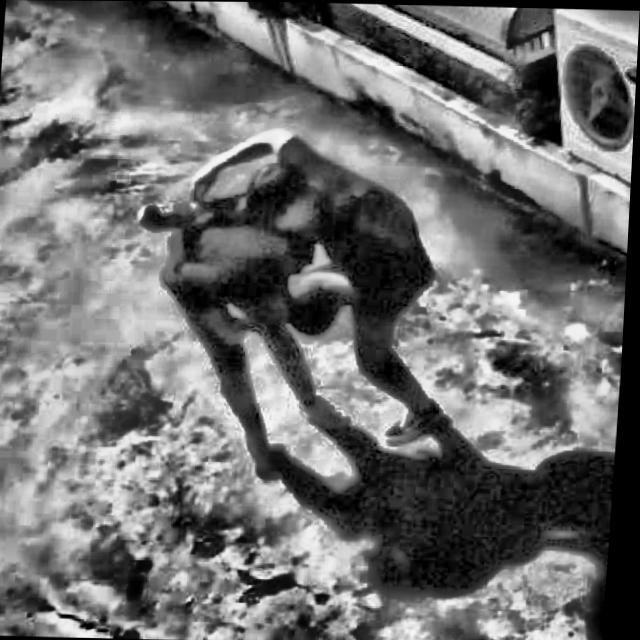robbery: (121, 117, 500, 540)
